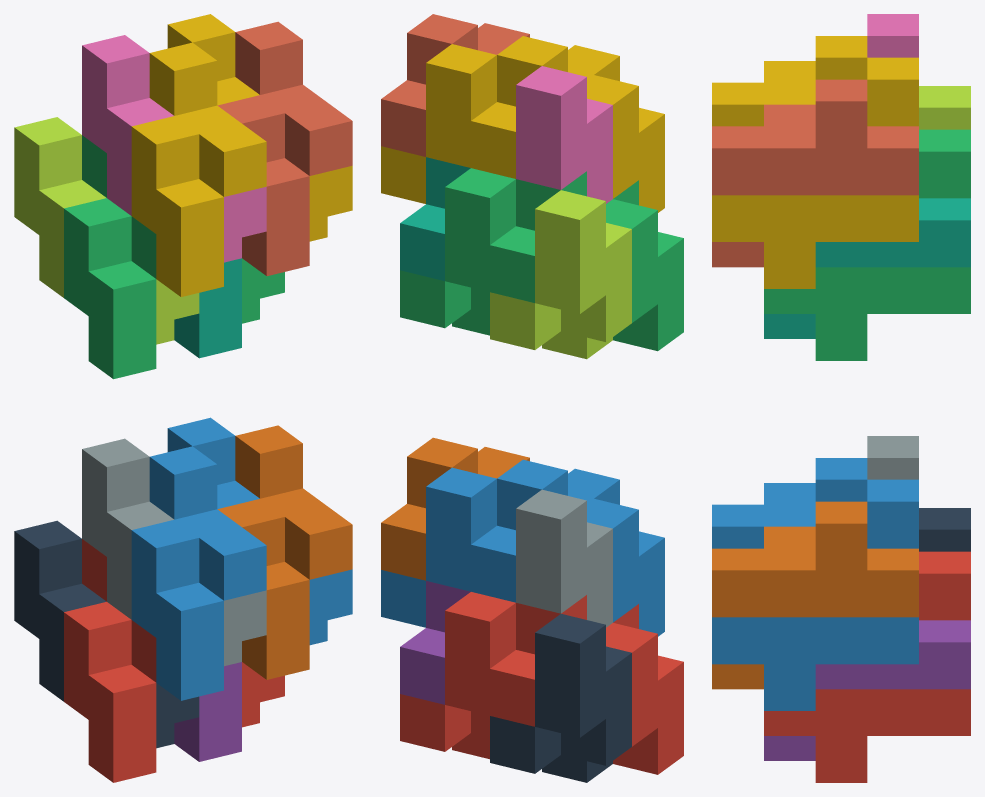
The model's file is tiling.obj.
The picture shows the model from 3 angles, left to right: view 1: azimuth 30°, elevation 25°; view 2: azimuth 150°, elevation 25°; view 3: azimuth 270°, elevation 25°; orthographic projection. The views are drawn at different scales.
Visible parts, largest first — view 1: copy_1_domain_2, copy_1_domain_4, copy_1_domain_6, copy_1_domain_8, copy_1_domain_3, copy_1_domain_1, copy_2_domain_2, copy_2_domain_4, copy_2_domain_1, copy_2_domain_3, copy_2_domain_8, copy_2_domain_6 (+4 smaller); view 2: copy_2_domain_1, copy_2_domain_3, copy_1_domain_2, copy_1_domain_4, copy_1_domain_1, copy_1_domain_3, copy_2_domain_5, copy_2_domain_7, copy_2_domain_4, copy_2_domain_2, copy_2_domain_8, copy_2_domain_6 (+4 smaller); view 3: copy_1_domain_6, copy_1_domain_8, copy_2_domain_6, copy_2_domain_8, copy_2_domain_5, copy_2_domain_7, copy_1_domain_5, copy_1_domain_7, copy_1_domain_2, copy_1_domain_4, copy_2_domain_1, copy_2_domain_2 (+2 smaller).
Part boxes in pixels (x1=…): copy_1_domain_2: x1=131, y1=446, x2=266, y2=700; copy_1_domain_4: x1=131, y1=42, x2=266, y2=296; copy_1_domain_6: x1=217, y1=425, x2=352, y2=679; copy_1_domain_8: x1=217, y1=21, x2=352, y2=275; copy_1_domain_3: x1=64, y1=135, x2=156, y2=379; copy_1_domain_1: x1=64, y1=539, x2=156, y2=782; copy_2_domain_2: x1=82, y1=438, x2=266, y2=666; copy_2_domain_4: x1=82, y1=35, x2=266, y2=262; copy_2_domain_1: x1=14, y1=520, x2=199, y2=748; copy_2_domain_3: x1=14, y1=117, x2=199, y2=344; copy_2_domain_8: x1=167, y1=14, x2=352, y2=241; copy_2_domain_6: x1=167, y1=417, x2=352, y2=645; copy_2_domain_1: x1=490, y1=614, x2=631, y2=782; copy_2_domain_3: x1=490, y1=190, x2=631, y2=359; copy_1_domain_2: x1=471, y1=459, x2=664, y2=636; copy_1_domain_4: x1=471, y1=36, x2=664, y2=212; copy_1_domain_1: x1=490, y1=595, x2=683, y2=774; copy_1_domain_3: x1=490, y1=171, x2=683, y2=351; copy_2_domain_5: x1=400, y1=592, x2=515, y2=759; copy_2_domain_7: x1=400, y1=168, x2=515, y2=335; copy_2_domain_4: x1=516, y1=66, x2=612, y2=203; copy_2_domain_2: x1=516, y1=489, x2=612, y2=627; copy_2_domain_8: x1=381, y1=44, x2=496, y2=203; copy_2_domain_6: x1=381, y1=467, x2=496, y2=627; copy_1_domain_6: x1=712, y1=501, x2=918, y2=689; copy_1_domain_8: x1=712, y1=79, x2=918, y2=267; copy_2_domain_6: x1=712, y1=479, x2=918, y2=710; copy_2_domain_8: x1=712, y1=57, x2=918, y2=288; copy_2_domain_5: x1=764, y1=551, x2=970, y2=782; copy_2_domain_7: x1=764, y1=129, x2=970, y2=360; copy_1_domain_5: x1=764, y1=620, x2=970, y2=760; copy_1_domain_7: x1=764, y1=198, x2=970, y2=338; copy_1_domain_2: x1=712, y1=458, x2=867, y2=548; copy_1_domain_4: x1=712, y1=36, x2=867, y2=126; copy_2_domain_1: x1=919, y1=508, x2=970, y2=551; copy_2_domain_2: x1=867, y1=436, x2=918, y2=479.
Size of the model in its own units: 5 by 15 by 5.
